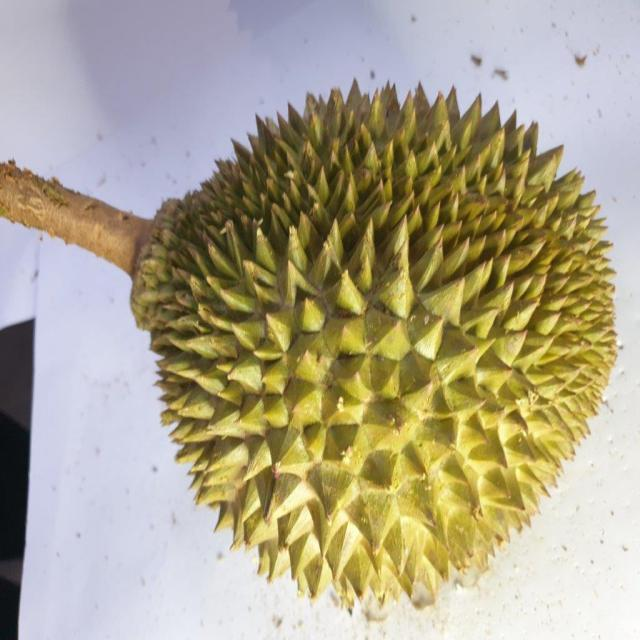immature: (144, 75, 628, 607)
